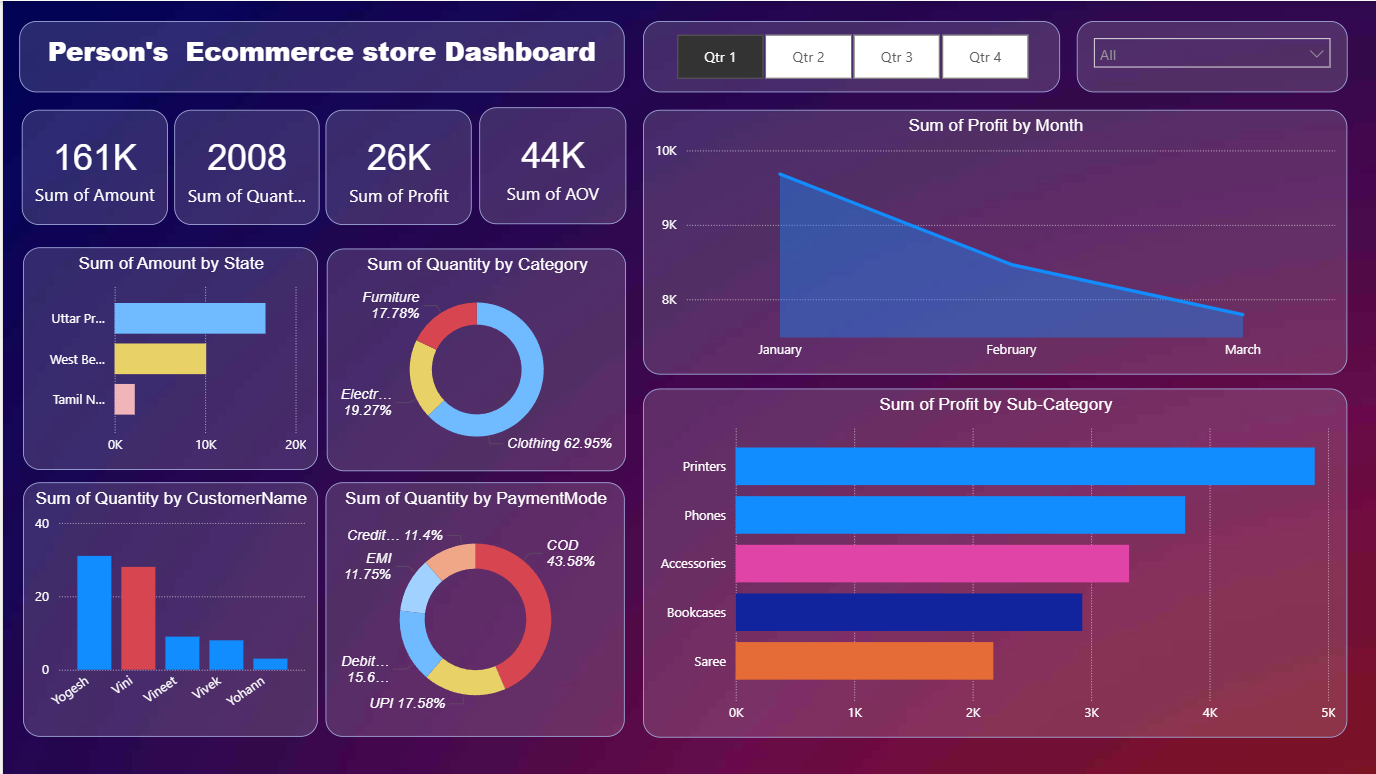

Layout of this report page (visuals, bound fields, positions):
{"tool":"powerbi","page":{"name":"Page 1","canvas":[1280,720],"ordinal":0},"visuals":[{"type":"textbox","box":[15,18.3,563.3,66.7],"z":0},{"type":"stackedAreaChart","fields":{"Category":["Orders.Order Date.Variation.Date Hierarchy.Month"],"Y":["Details.Profit"]},"box":[595,101.7,655,246.7],"z":1000},{"type":"barChart","fields":{"Category":["Details.Sub-Category"],"Y":["Details.Profit"]},"box":[595,360,655,325],"z":2000},{"type":"donutChart","fields":{"Category":["Details.Category"],"Y":["Details.Quantity"]},"box":[301.4,230,278.6,207.1],"z":3000},{"type":"donutChart","fields":{"Y":["Details.Quantity"],"Category":["Details.PaymentMode"]},"box":[300,447.1,278.6,237.1],"z":4000},{"type":"card","fields":{"Values":["Details.Amount"]},"box":[17.1,101.4,135.7,107.1],"z":5000},{"type":"card","fields":{"Values":["Details.Quantity"]},"box":[158.8,101.2,135,107.5],"z":6000},{"type":"card","fields":{"Values":["Details.Profit"]},"box":[300,100.6,136.2,107.5],"z":7000},{"type":"card","fields":{"Values":["Details.AOV"]},"box":[442.5,99.4,136.9,108.8],"z":8000},{"type":"barChart","fields":{"Y":["Details.Amount"],"Category":["Orders.State"]},"box":[18.6,228.6,274.3,207.1],"z":9000},{"type":"columnChart","fields":{"Category":["Orders.CustomerName"],"Y":["Details.Quantity"]},"box":[18.6,447.1,274.3,237.1],"z":10000},{"type":"slicer","fields":{"Values":["Orders.Order Date.Variation.Date Hierarchy.Quarter"]},"box":[595,18.3,388.3,66.7],"z":12000},{"type":"slicer","fields":{"Values":["Orders.State"]},"box":[998.3,18.3,251.7,66.7],"z":12001}]}

Visuals, with their boxes in screenshot pixels (x1, y1, x2, y2), scaled from the page's 1280x720 canvas onto the 1376x774 screenshot:
textbox: locate(16, 20, 622, 91)
stackedAreaChart - Orders.Order Date.Variation.Date Hierarchy.Month x Details.Profit: locate(640, 109, 1344, 375)
barChart - Details.Sub-Category x Details.Profit: locate(640, 387, 1344, 736)
donutChart - Details.Category x Details.Quantity: locate(324, 247, 624, 470)
donutChart - Details.Quantity x Details.PaymentMode: locate(322, 481, 622, 736)
card - Details.Amount: locate(18, 109, 164, 224)
card - Details.Quantity: locate(171, 109, 316, 224)
card - Details.Profit: locate(322, 108, 469, 224)
card - Details.AOV: locate(476, 107, 623, 224)
barChart - Details.Amount x Orders.State: locate(20, 246, 315, 468)
columnChart - Orders.CustomerName x Details.Quantity: locate(20, 481, 315, 736)
slicer - Orders.Order Date.Variation.Date Hierarchy.Quarter: locate(640, 20, 1057, 91)
slicer - Orders.State: locate(1073, 20, 1344, 91)
